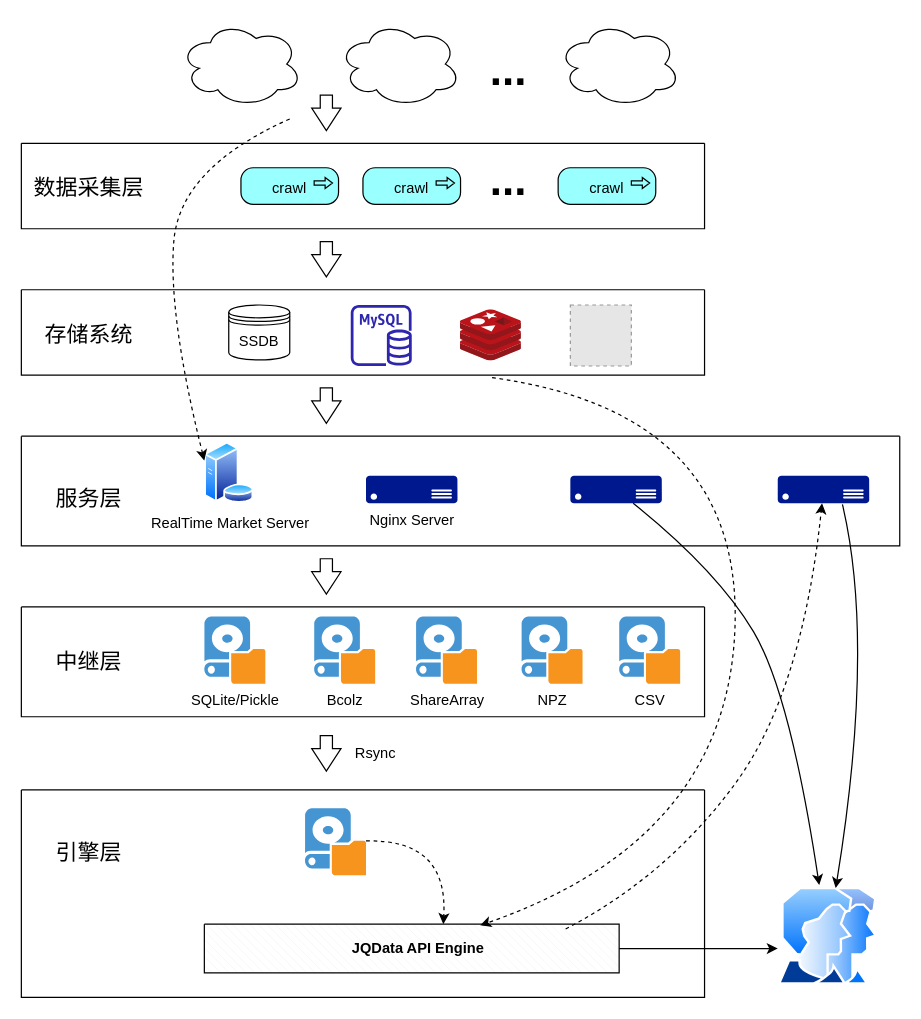
Image size: 921x1019. Some labels were removed from this diagram. Grey dashed boxes stand in for pictures. The box of each missing label's shape, as (x1, y1, x2, y2) in pixels:
JQData HTTP Server: (570, 475, 661, 503)
JQData SDK Server: (777, 475, 869, 503)
Local Data: (304, 808, 365, 875)
数据源1: (179, 20, 302, 107)
数据源2: (337, 20, 461, 107)
数据源N: (557, 20, 680, 107)
